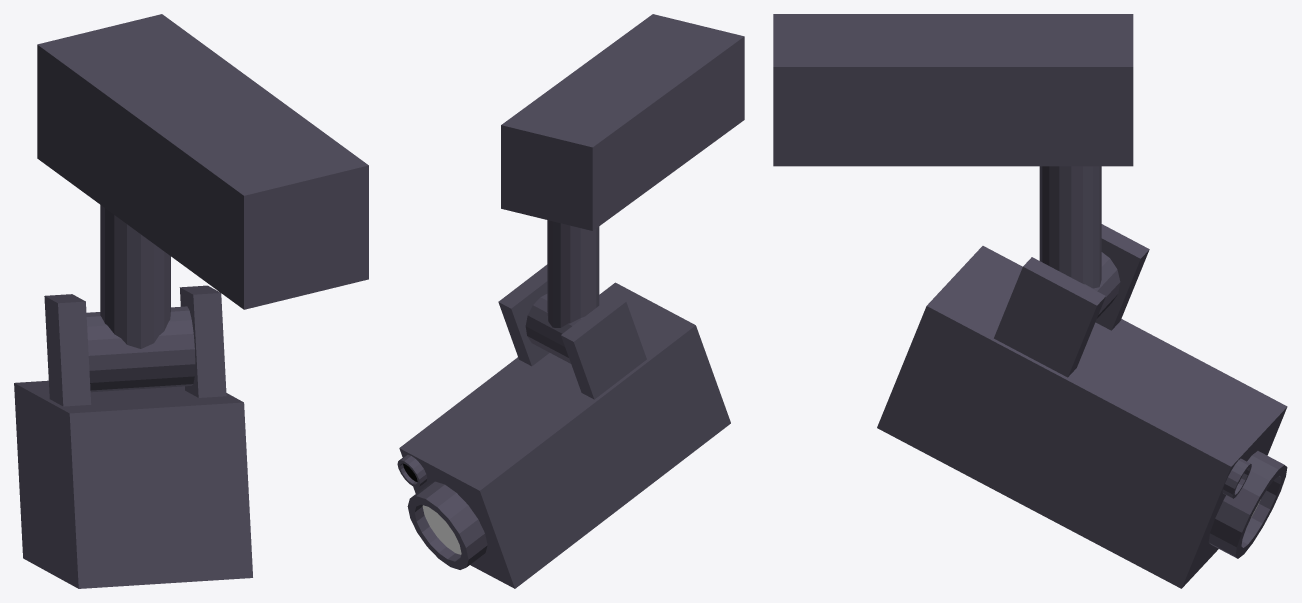
Rendered from CCTV.fbx.
3 renders of one model, left to right at view 1: azimuth 30°, elevation 25°; view 2: azimuth 150°, elevation 25°; view 3: azimuth 270°, elevation 25°, orthographic. The views are drawn at different scales.
Parts seen in each view (by area): view 1: CCTV; view 2: CCTV; view 3: CCTV.
Boxes of the visible parts, x1,y1,x2,y2 form: CCTV: (14, 14, 368, 588); CCTV: (397, 14, 744, 588); CCTV: (773, 14, 1287, 588).
Bounding box in the file's own units: 368 × 712 × 670.
